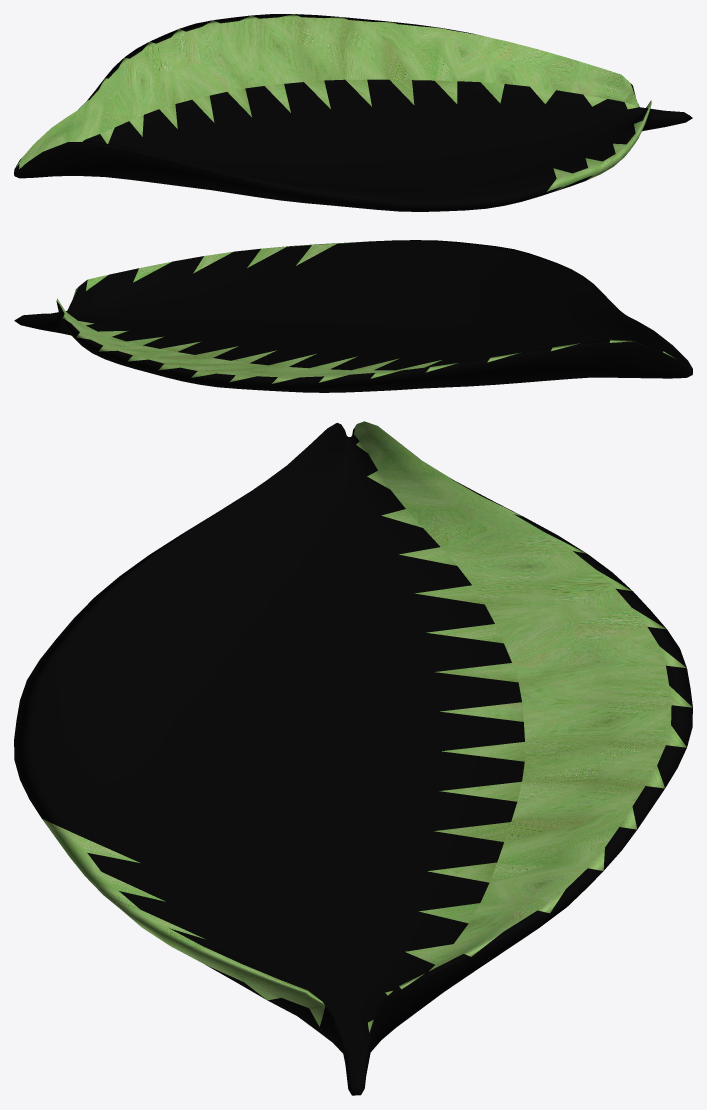
The model's file is rose_2_processed.obj.
The picture shows the model from 3 angles, top to bottom: view 1: azimuth 30°, elevation 25°; view 2: azimuth 150°, elevation 25°; view 3: azimuth 270°, elevation 25°; orthographic projection. The views are drawn at different scales.
Visible parts, largest first — view 1: pCube3; view 2: pCube3; view 3: pCube3.
Part boxes in pixels (box(x1,y1,x2,y2)): pCube3: box(14, 14, 692, 211); pCube3: box(14, 240, 692, 392); pCube3: box(14, 421, 692, 1095).
Bounding box in the file's own units: 14.84 × 2.96 × 8.58.
